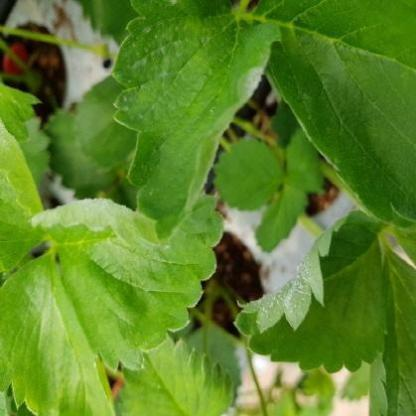Strawberry_Powdery_Mildew_Leaf: (109, 0, 282, 242), (27, 192, 224, 372), (233, 210, 389, 374)
